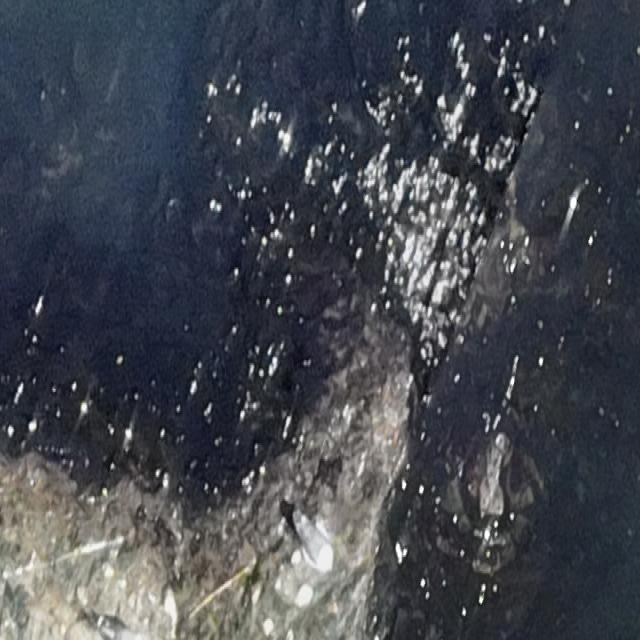umineko: (296, 518, 334, 574), (96, 618, 132, 640)
